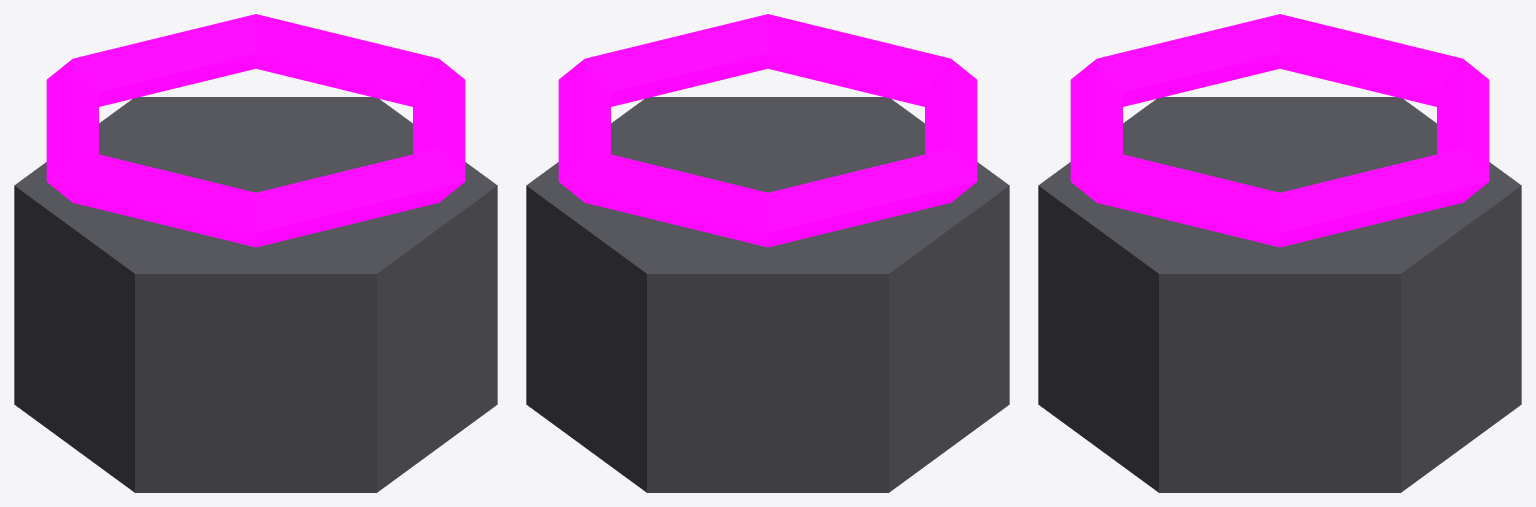
The model's file is tower_gravity_lod1.glb.
The picture shows the model from 3 angles, left to right: view 1: azimuth 30°, elevation 25°; view 2: azimuth 150°, elevation 25°; view 3: azimuth 270°, elevation 25°; orthographic projection.
Parts seen in each view (by area): view 1: tower_gravity_lod1; view 2: tower_gravity_lod1; view 3: tower_gravity_lod1.
Boxes of the visible parts, x1,y1,x2,y2 form: tower_gravity_lod1: [14, 14, 497, 492]; tower_gravity_lod1: [526, 14, 1009, 492]; tower_gravity_lod1: [1038, 14, 1521, 492].
Bounding box in the file's own units: 0.8 × 0.55 × 0.8.
